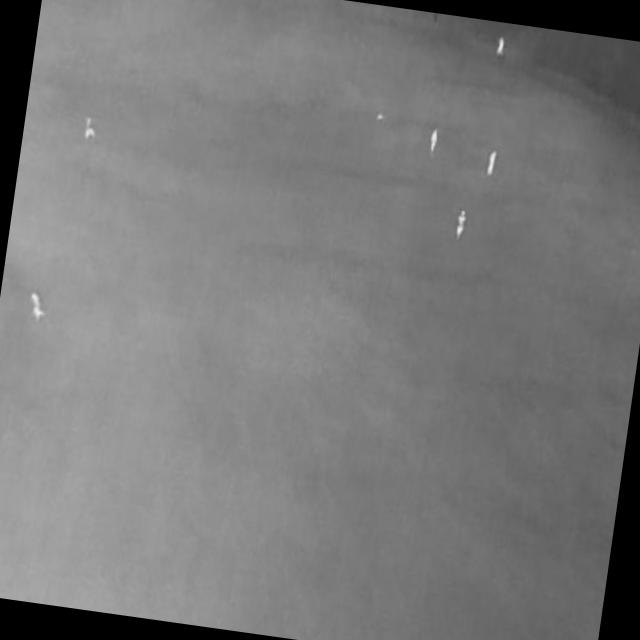person: (26, 291, 48, 323), (82, 115, 100, 144), (455, 211, 469, 243), (485, 150, 499, 179), (428, 130, 439, 156), (496, 37, 507, 58)
